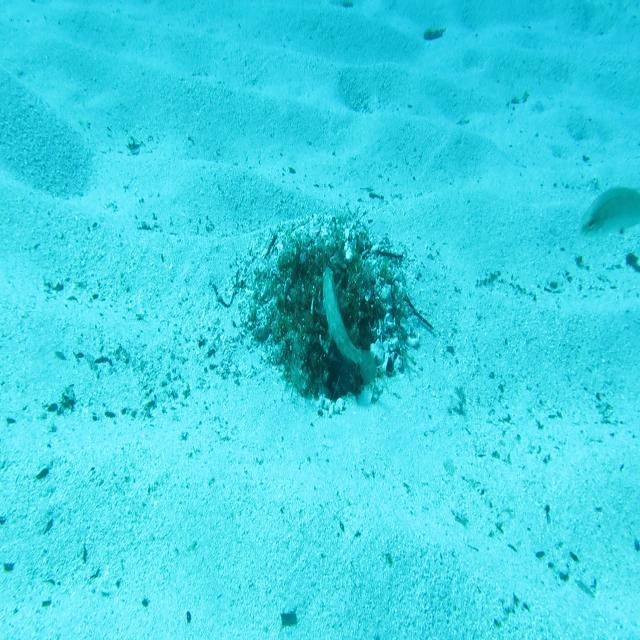FAN: (318, 266, 380, 389)
core_nest: (298, 256, 344, 290)
female: (576, 183, 640, 244)
nest: (231, 198, 428, 430)
vegetation: (421, 23, 446, 42), (278, 608, 299, 628), (627, 250, 640, 274)
